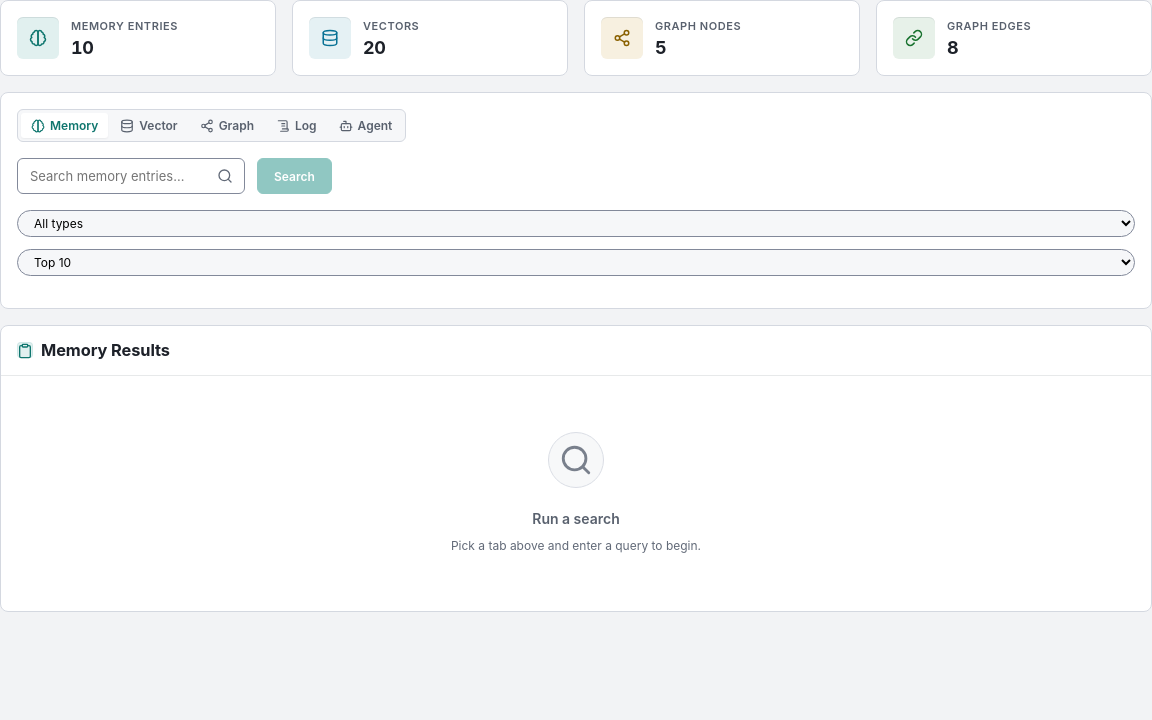
Test: Search.vue › renders search results after a successful search
In the field with class "search-input": [131, 176] box [17,158,245,194], type "test"
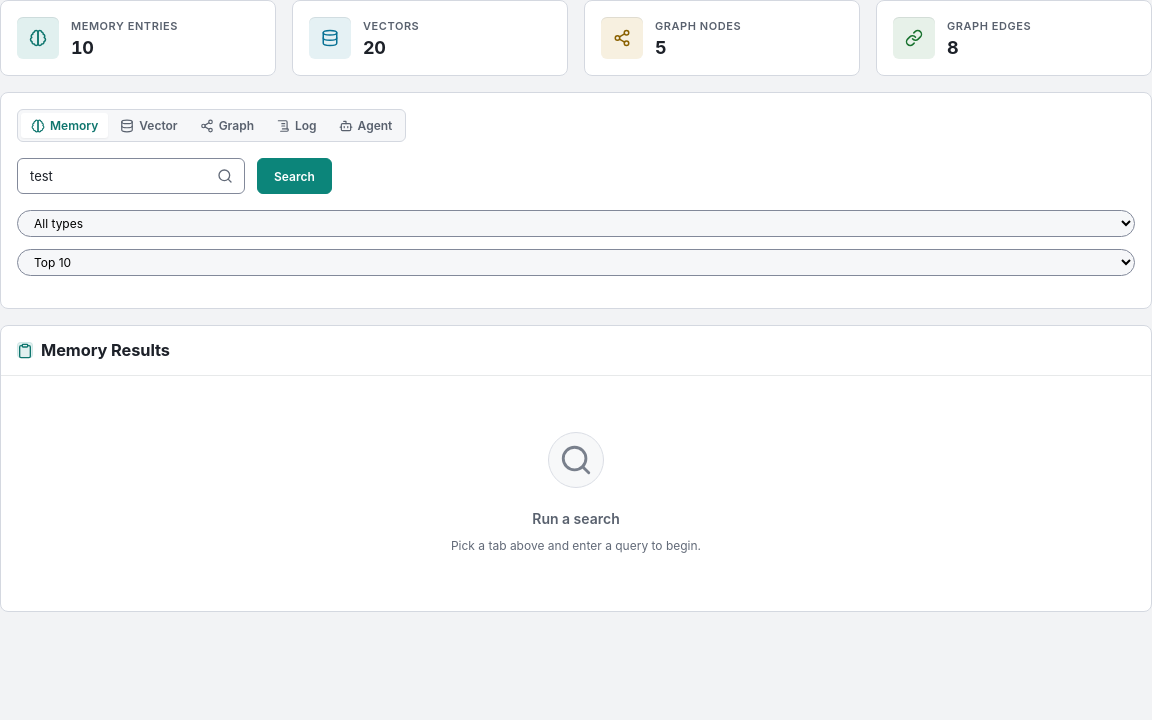
Click the button "Search": [294, 176] box [257,158,332,194]
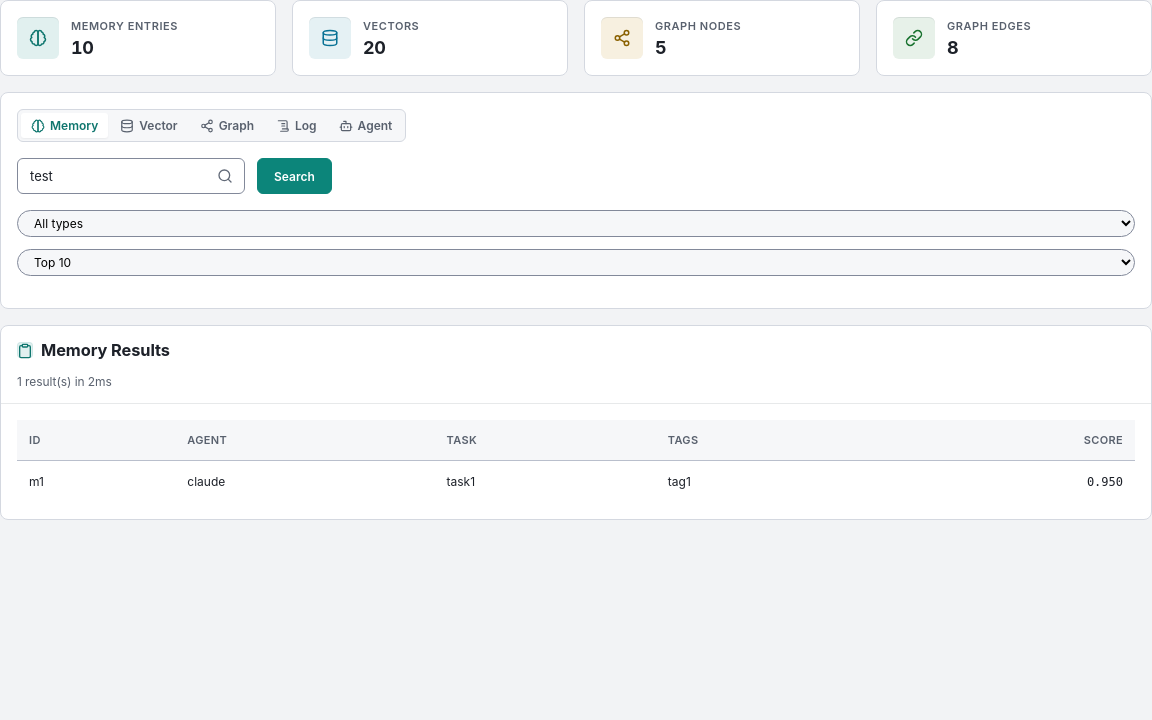
Now the element showing "ID Agent Task Tags Score m1 claude task1 tag1 0.950" is shown, box [17,420,1135,503]
Now the text "claude" is shown, box [187,474,225,489]
